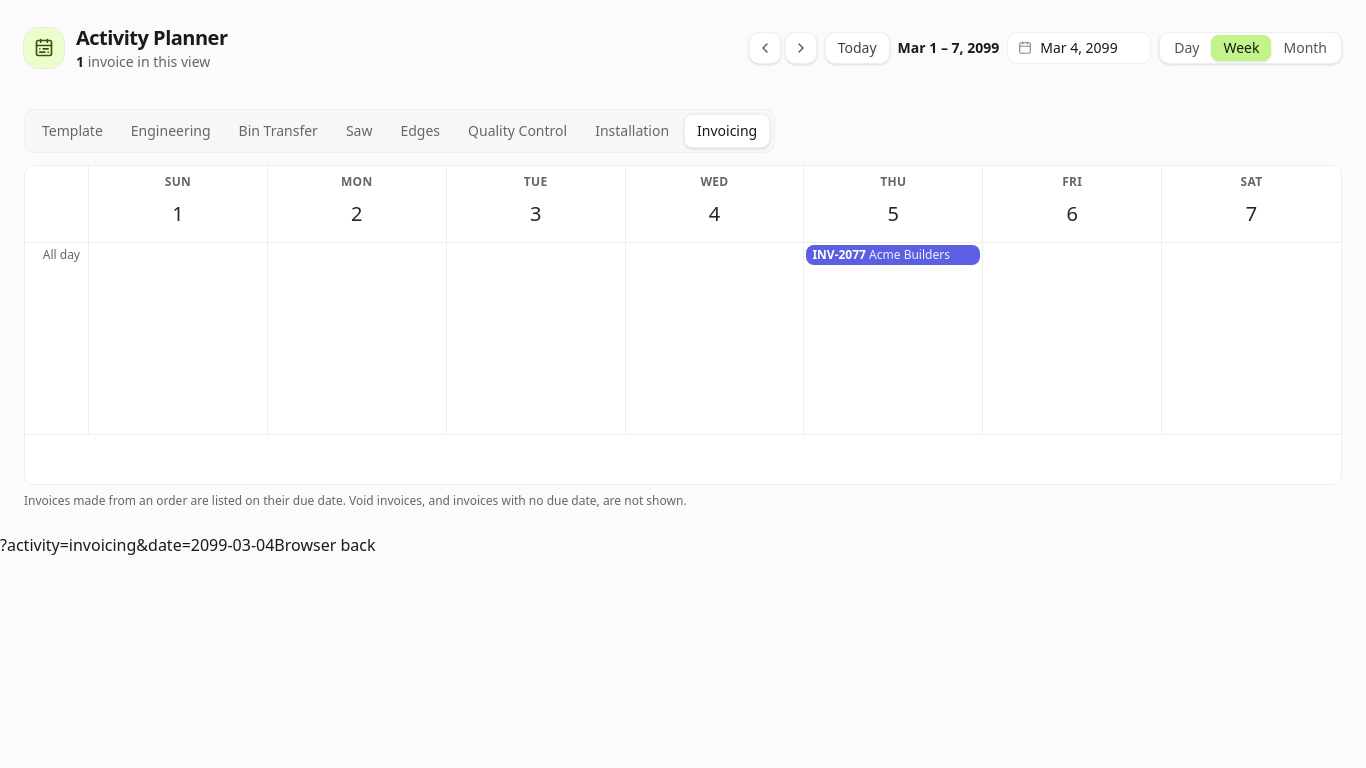
Test: ActivityPlannerPage tabs › lists invoices on the Invoicing tab, by due date, linked to the invoice and its order
The image size is (1366, 768).
Click the button "INV-2077 Acme Builders" at (893, 255), box [806, 245, 980, 265]
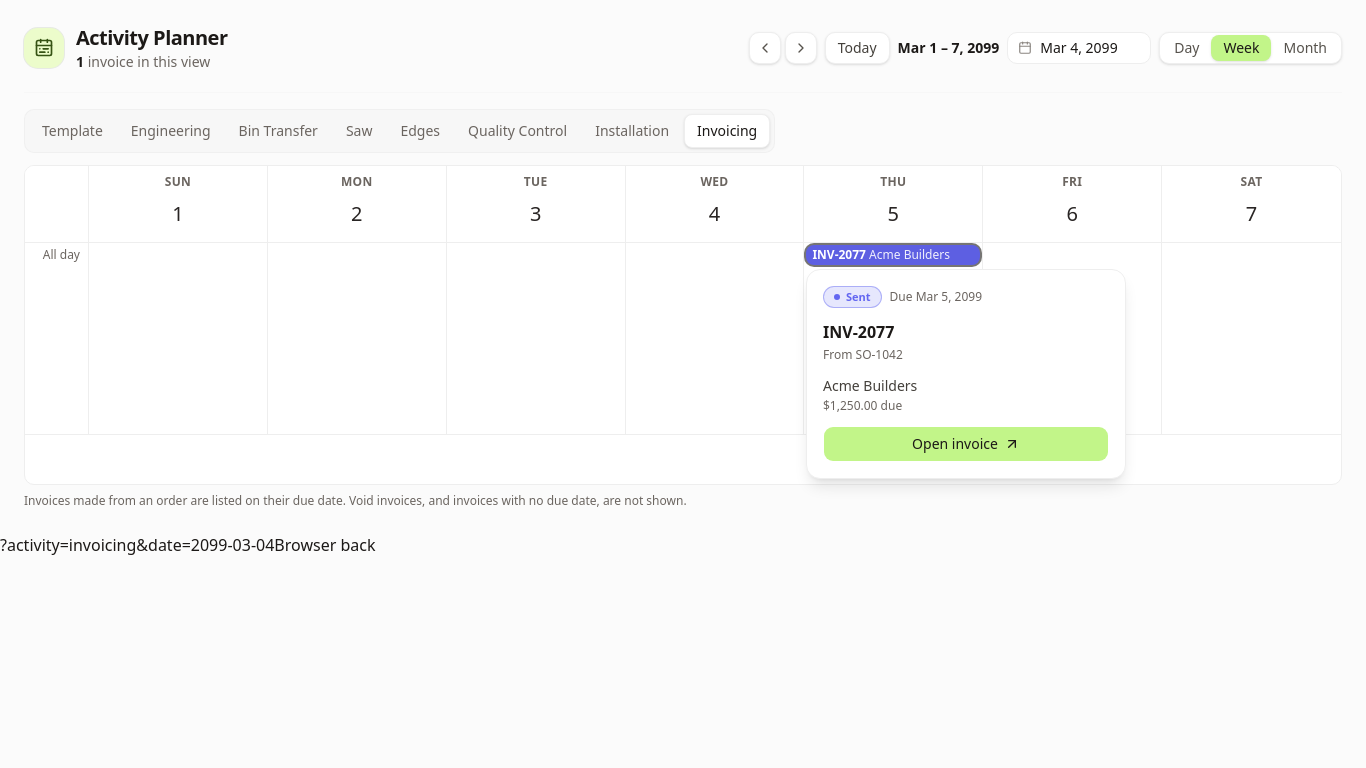
Now the text "Due Mar 5, 2099" is shown, box [890, 289, 982, 305]
Now the text "$1,250.00 due" is shown, box [823, 397, 902, 414]
Now the link with aria-label "Open invoice INV-2077" reads "Open invoice", box [823, 426, 1109, 462]
